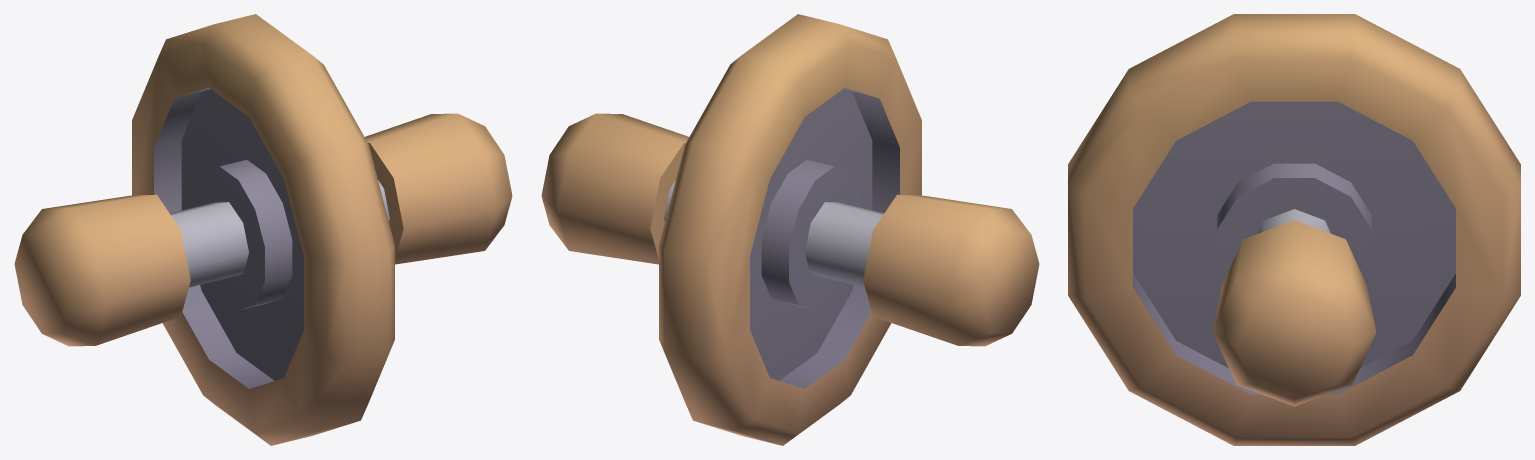
Rendered from fitness-ab-wheel.glb.
3 views of the same model, side by side, from view 1: azimuth 30°, elevation 25°; view 2: azimuth 150°, elevation 25°; view 3: azimuth 270°, elevation 25° (orthographic). The views are drawn at different scales.
Visible parts, largest first — view 1: fitness-ab-wheel; view 2: fitness-ab-wheel; view 3: fitness-ab-wheel.
Boxes of the visible parts, x1=… form: fitness-ab-wheel: x1=14, y1=14, x2=512, y2=445; fitness-ab-wheel: x1=541, y1=14, x2=1039, y2=445; fitness-ab-wheel: x1=1068, y1=14, x2=1520, y2=445.
Bounding box in the file's own units: 0.262 × 0.215 × 0.215.
